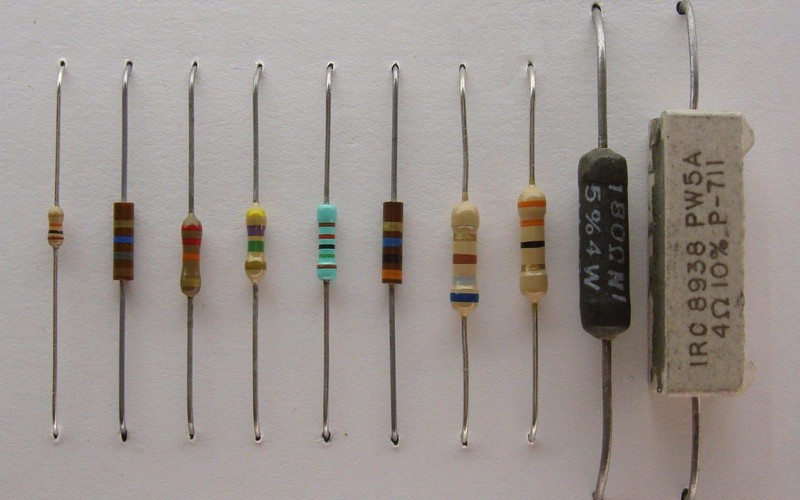Resistor: (11, 97, 789, 430)
